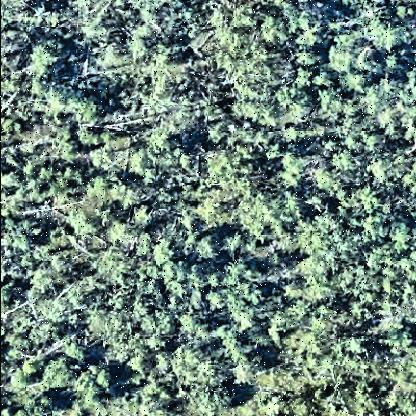tree-top: (172, 339, 228, 396), (40, 353, 80, 394), (30, 37, 66, 71), (257, 13, 291, 47), (279, 157, 311, 193), (74, 99, 106, 135), (232, 355, 266, 387), (326, 44, 357, 75), (205, 383, 237, 413), (329, 148, 360, 178), (280, 148, 310, 178), (211, 233, 240, 263), (355, 45, 385, 73), (214, 390, 246, 416), (92, 364, 119, 394), (390, 220, 416, 251), (197, 235, 225, 263), (353, 188, 381, 216), (381, 49, 411, 75), (222, 231, 246, 261), (344, 71, 372, 95), (347, 334, 373, 358), (296, 47, 324, 69), (395, 326, 416, 353), (132, 205, 156, 228), (77, 127, 101, 149), (207, 288, 228, 313), (313, 68, 336, 90), (174, 149, 196, 171), (283, 125, 305, 145), (1, 172, 21, 194), (268, 399, 290, 416), (396, 3, 416, 19)
